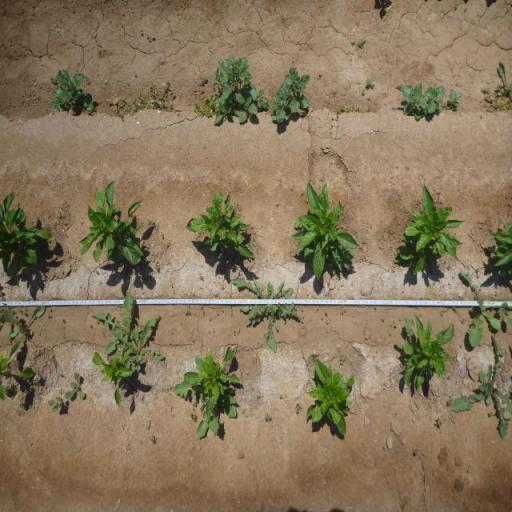plant: (294, 178, 360, 288), (392, 179, 464, 273), (75, 178, 146, 272), (0, 185, 52, 290), (182, 190, 254, 260), (302, 356, 357, 443), (399, 315, 456, 395), (183, 344, 243, 404), (93, 348, 133, 406), (0, 348, 35, 402)
weed: (451, 336, 512, 439), (232, 272, 304, 355), (96, 290, 166, 359), (211, 49, 270, 130), (459, 267, 512, 347), (47, 66, 99, 125), (270, 64, 314, 126), (0, 304, 46, 351), (485, 61, 512, 114), (146, 76, 175, 111), (112, 96, 146, 123), (401, 82, 422, 120), (423, 84, 444, 118), (65, 372, 87, 400), (192, 94, 216, 119), (446, 89, 463, 111), (336, 102, 362, 116), (350, 36, 365, 58), (46, 396, 64, 414), (146, 32, 156, 44), (366, 76, 376, 88), (189, 411, 198, 423), (295, 402, 303, 415), (434, 417, 442, 429), (338, 354, 346, 366), (50, 74, 58, 84), (263, 412, 271, 422), (150, 434, 158, 444), (413, 448, 420, 456), (203, 75, 209, 84), (446, 398, 452, 406), (185, 309, 191, 316), (154, 264, 160, 271), (396, 84, 401, 90)
